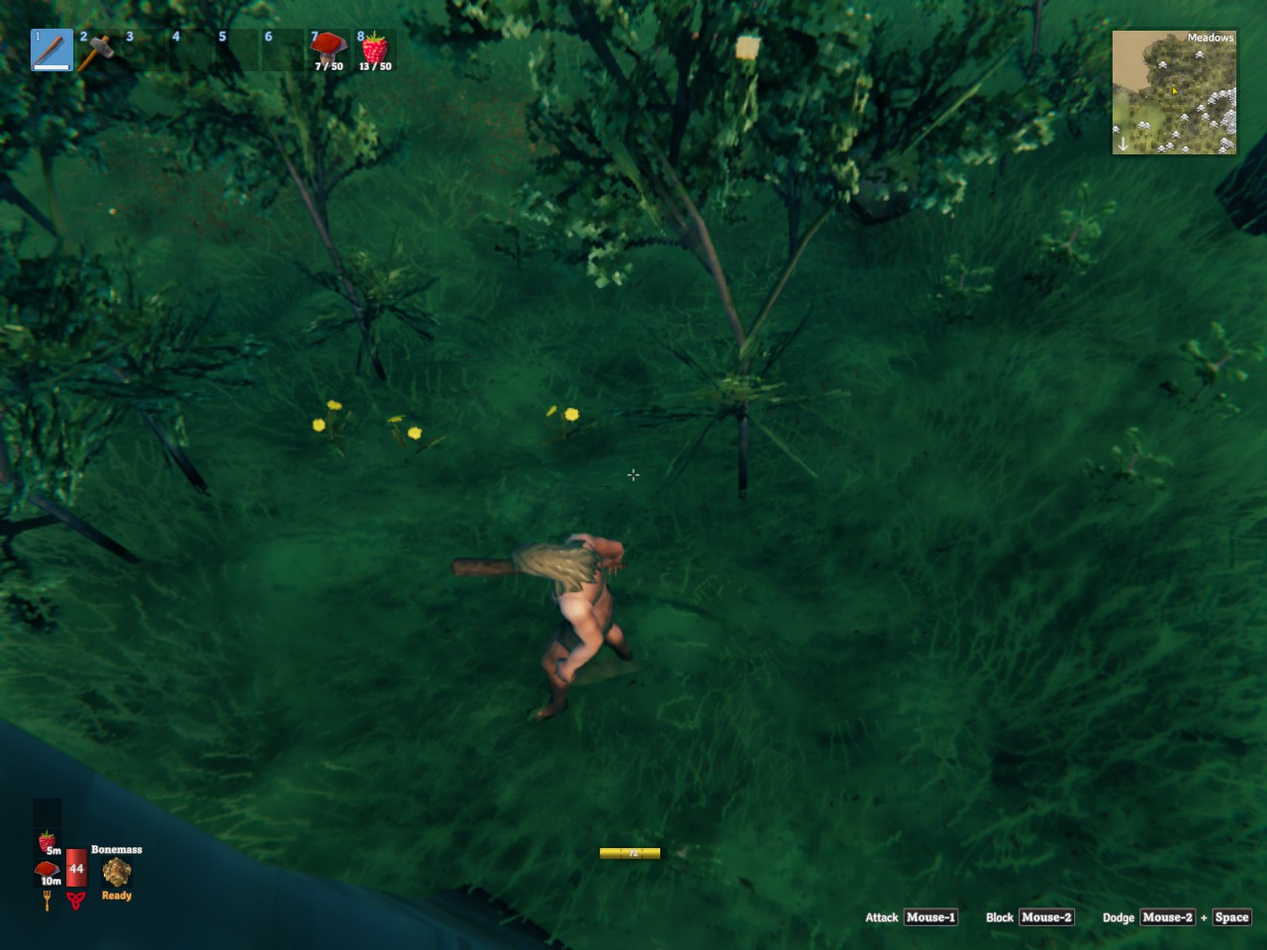Food Indicator: (36, 797, 63, 891)
Health Bar: (63, 820, 90, 891)
Hotbar: (24, 21, 406, 80)
Stamina Bar: (595, 841, 674, 866)
